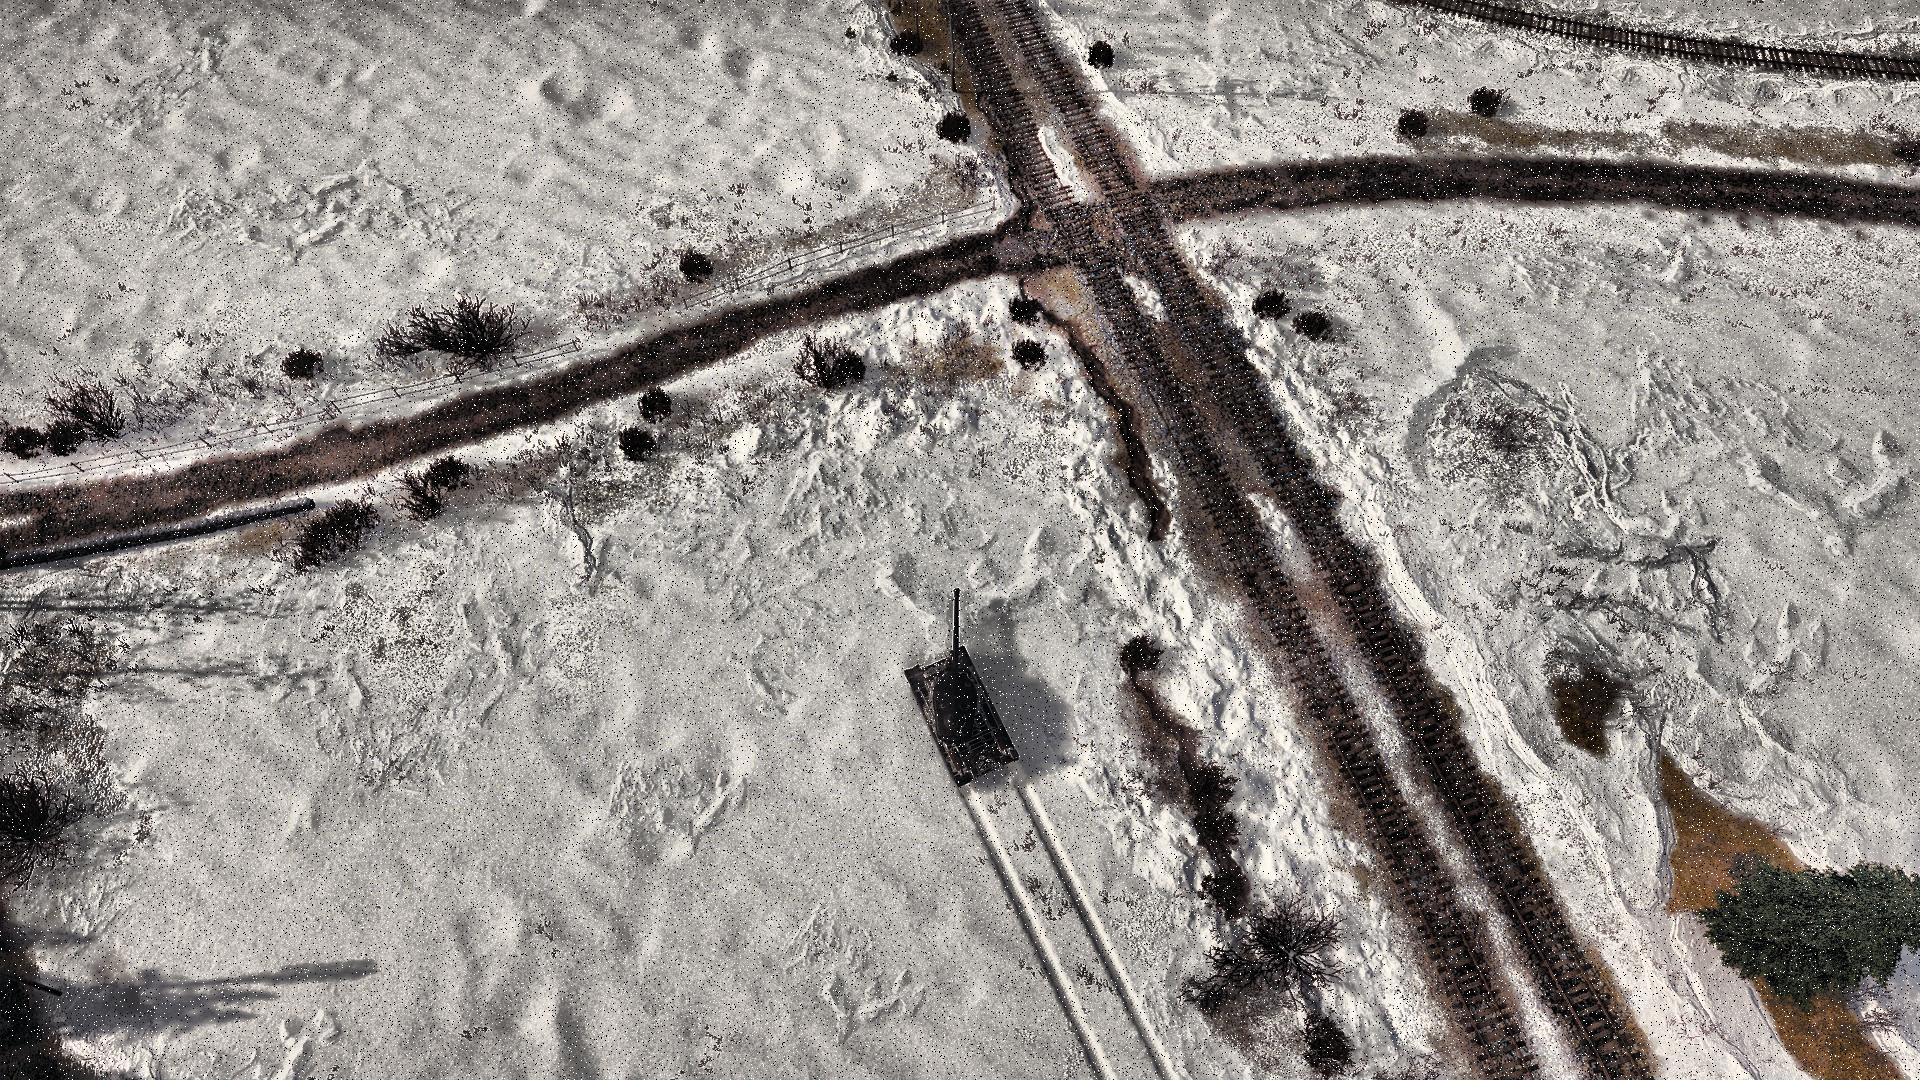military-vehicle: (905, 588, 1022, 789)
